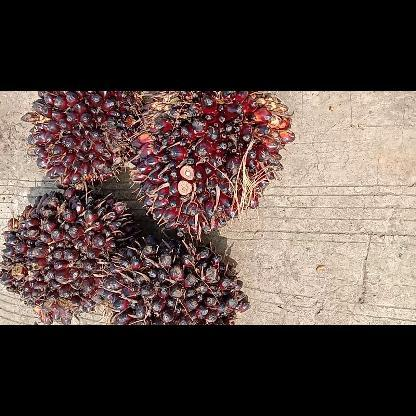TBS mentah: (127, 91, 295, 239), (0, 186, 145, 325), (101, 232, 249, 324), (18, 90, 146, 192)
